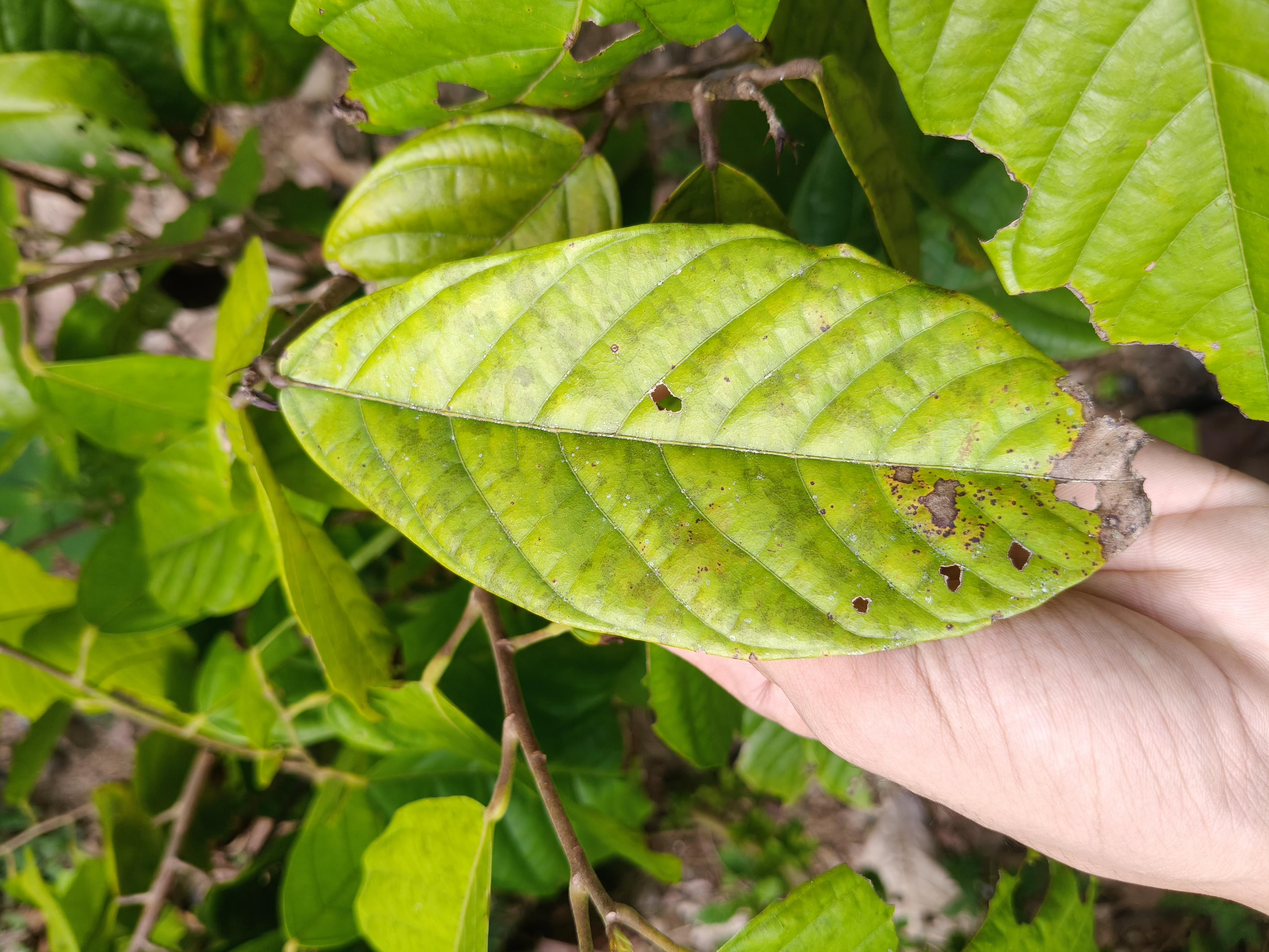deficiencia_potasio: (239, 210, 1205, 677)
